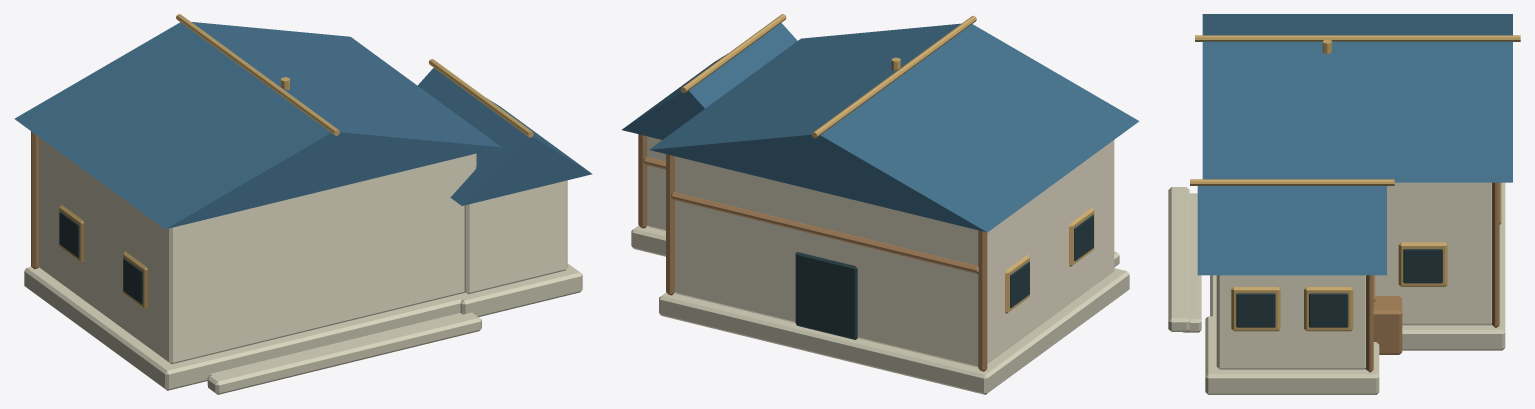
File: level_13.glb
3 views of the same model, side by side, from view 1: azimuth 30°, elevation 25°; view 2: azimuth 150°, elevation 25°; view 3: azimuth 270°, elevation 25° (orthographic). The views are drawn at different scales.
Visible parts, largest first — view 1: warehouse — level 13; view 2: warehouse — level 13; view 3: warehouse — level 13.
Boxes of the visible parts, <box> form: warehouse — level 13: <box>14,14,592,394</box>; warehouse — level 13: <box>622,14,1139,394</box>; warehouse — level 13: <box>1168,14,1520,394</box>.
Bounding box in the file's own units: 6.66 × 3.42 × 4.65.
